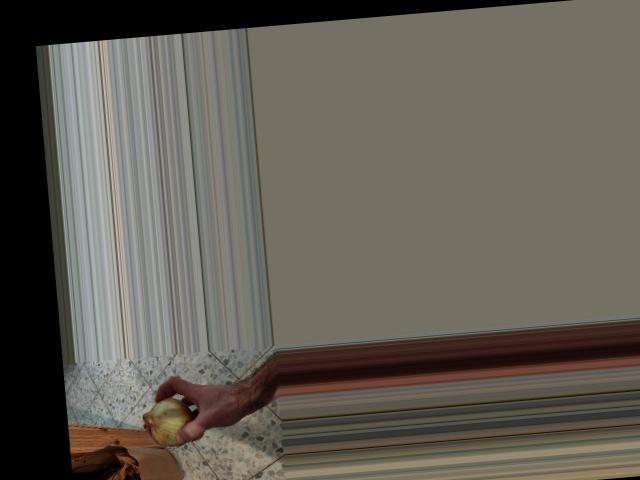onion: (139, 389, 210, 453)
